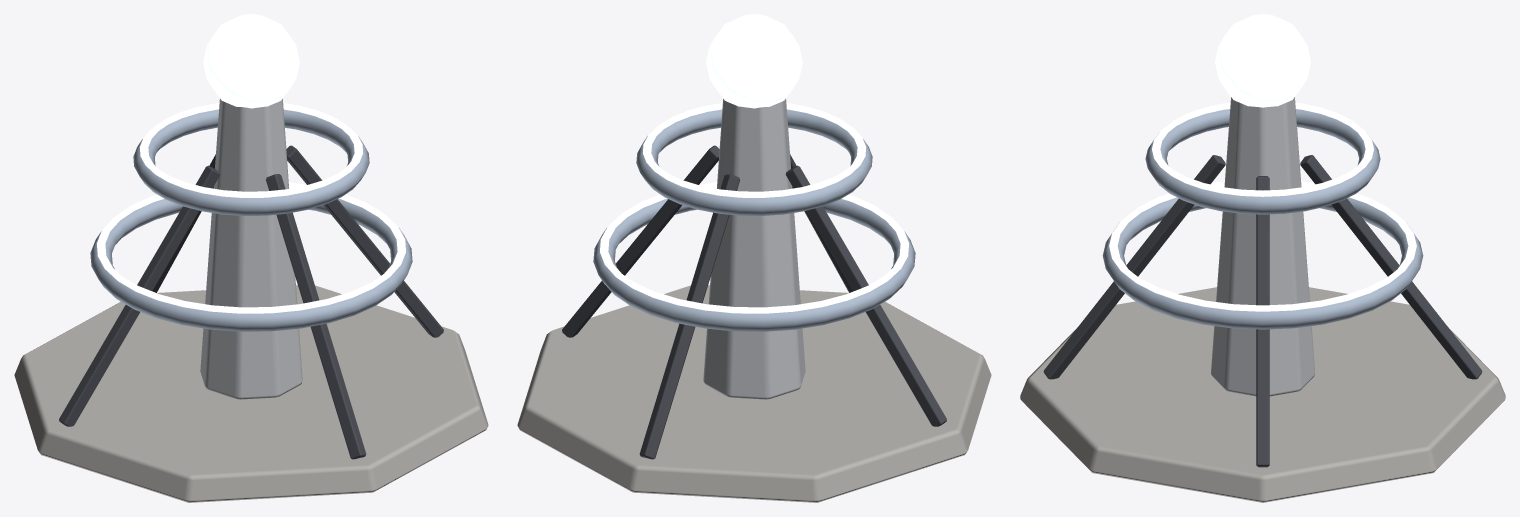
Rendered from surfshield.glb.
3 views of the same model, side by side, from view 1: azimuth 30°, elevation 25°; view 2: azimuth 150°, elevation 25°; view 3: azimuth 270°, elevation 25° (orthographic).
Visible parts, largest first — view 1: surfshield; view 2: surfshield; view 3: surfshield.
Part boxes in pixels (left/top/right/bottom): surfshield: left=14, top=14, right=488, bottom=502; surfshield: left=517, top=14, right=991, bottom=502; surfshield: left=1020, top=14, right=1505, bottom=502.
Size of the model in its own units: 0.9082 by 0.79 by 0.9082.
